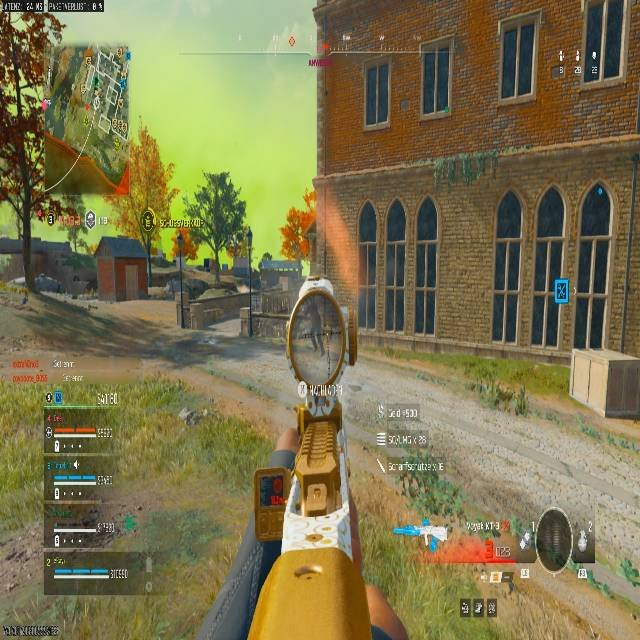player: (280, 207, 311, 261)
